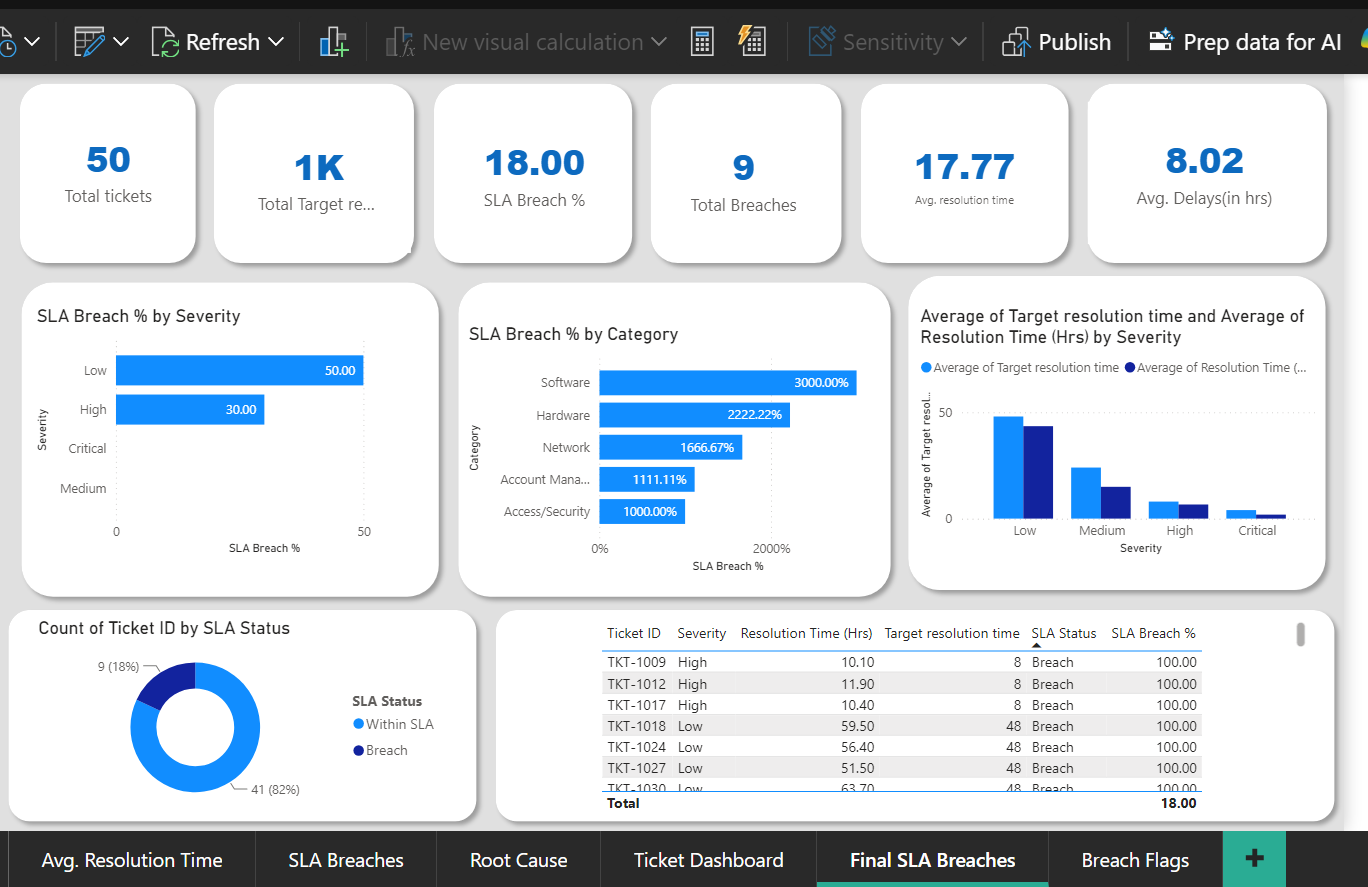

The page's visual inventory and layout, read from the dashboard file:
{"tool":"powerbi","page":{"name":"SLA Breaches","canvas":[1280,720],"ordinal":1},"visuals":[{"type":"tableEx","fields":{"Values":["ticket_raw_data.Ticket ID","ticket_raw_data.Severity","ticket_raw_data.Resolution Time (Hrs)","ticket_raw_data.Target resolution time","ticket_raw_data.SLA Status","ticket_raw_data.SLA Breach %"]},"box":[634,530,624,190],"z":0},{"type":"cardVisual","fields":{"Data":["ticket_raw_data.SLA Breach %"]},"box":[238,30,180,224],"z":1000},{"type":"clusteredBarChart","fields":{"Y":["ticket_raw_data.SLA Breach %"],"Category":["ticket_raw_data.Severity"]},"box":[22.4,275.2,375,242.6],"z":2000},{"type":"clusteredBarChart","fields":{"Y":["ticket_raw_data.SLA Breach %"],"Category":["ticket_raw_data.Category"]},"box":[418,275.2,431.8,242.6],"z":3000},{"type":"clusteredBarChart","fields":{"Y":["ticket_raw_data.SLA Breach %"],"Category":["ticket_raw_data.Region"]},"box":[824,30,434,220],"z":4000},{"type":"clusteredColumnChart","fields":{"Category":["ticket_raw_data.Severity"],"Y":["Avg(ticket_raw_data.Target resolution time)","Avg(ticket_raw_data.Resolution Time (Hrs))"]},"box":[868,276,390,242],"z":5000},{"type":"donutChart","fields":{"Y":["CountNonNull(ticket_raw_data.Ticket ID)"],"Category":["ticket_raw_data.SLA Status"]},"box":[22.4,529.8,395.6,190.9],"z":6000},{"type":"cardVisual","fields":{"Data":["Sum(ticket_raw_data.SLA Breach Flag)"]},"box":[436,34,176,220],"z":7000},{"type":"cardVisual","fields":{"Data":["CountNonNull(ticket_raw_data.Ticket ID)"]},"box":[24,26,196,224],"z":8000},{"type":"cardVisual","fields":{"Data":["Avg(ticket_raw_data.Resolution Time (Hrs))"]},"box":[634,30,172,220],"z":9000},{"type":"cardVisual","fields":{"Data":["ticket_raw_data.Average SLA Delay"]},"box":[428,530,194,190],"z":10000}]}

Visuals, with their boxes on the page's 1280x720 design canvas (x1, y1, x2, y2). These are canvas units, not pixel positions in the 1368x887 screenshot, which may show the page scaled, cropped or inside an application window:
tableEx - ticket_raw_data.Ticket ID x ticket_raw_data.Severity: 634 530 1258 720
cardVisual - ticket_raw_data.SLA Breach %: 238 30 418 254
clusteredBarChart - ticket_raw_data.SLA Breach % x ticket_raw_data.Severity: 22 275 397 518
clusteredBarChart - ticket_raw_data.SLA Breach % x ticket_raw_data.Category: 418 275 850 518
clusteredBarChart - ticket_raw_data.SLA Breach % x ticket_raw_data.Region: 824 30 1258 250
clusteredColumnChart - ticket_raw_data.Severity x Avg(ticket_raw_data.Target resolution time): 868 276 1258 518
donutChart - CountNonNull(ticket_raw_data.Ticket ID) x ticket_raw_data.SLA Status: 22 530 418 721
cardVisual - Sum(ticket_raw_data.SLA Breach Flag): 436 34 612 254
cardVisual - CountNonNull(ticket_raw_data.Ticket ID): 24 26 220 250
cardVisual - Avg(ticket_raw_data.Resolution Time (Hrs)): 634 30 806 250
cardVisual - ticket_raw_data.Average SLA Delay: 428 530 622 720
